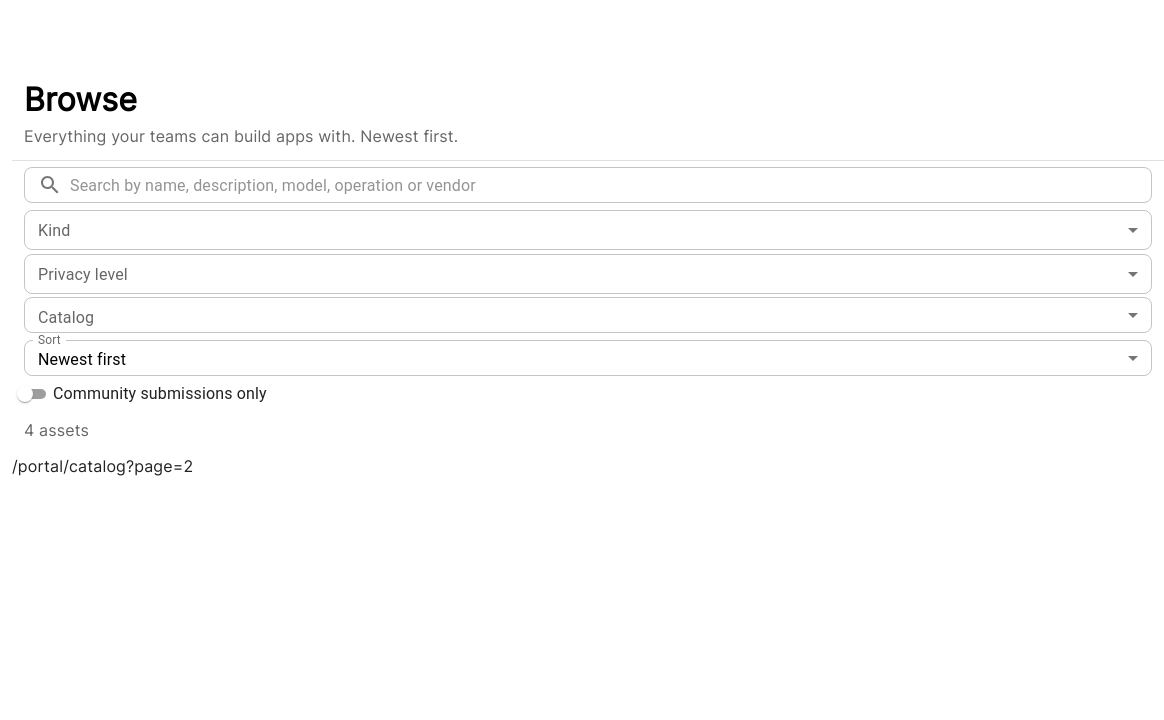
Test: CatalogBrowse › debounces typing into one request and resets the page
Type "doc" into the field with placeholder "Search by name, description, model, operation or vendor" at (611, 185), box [70,167,1152,203]
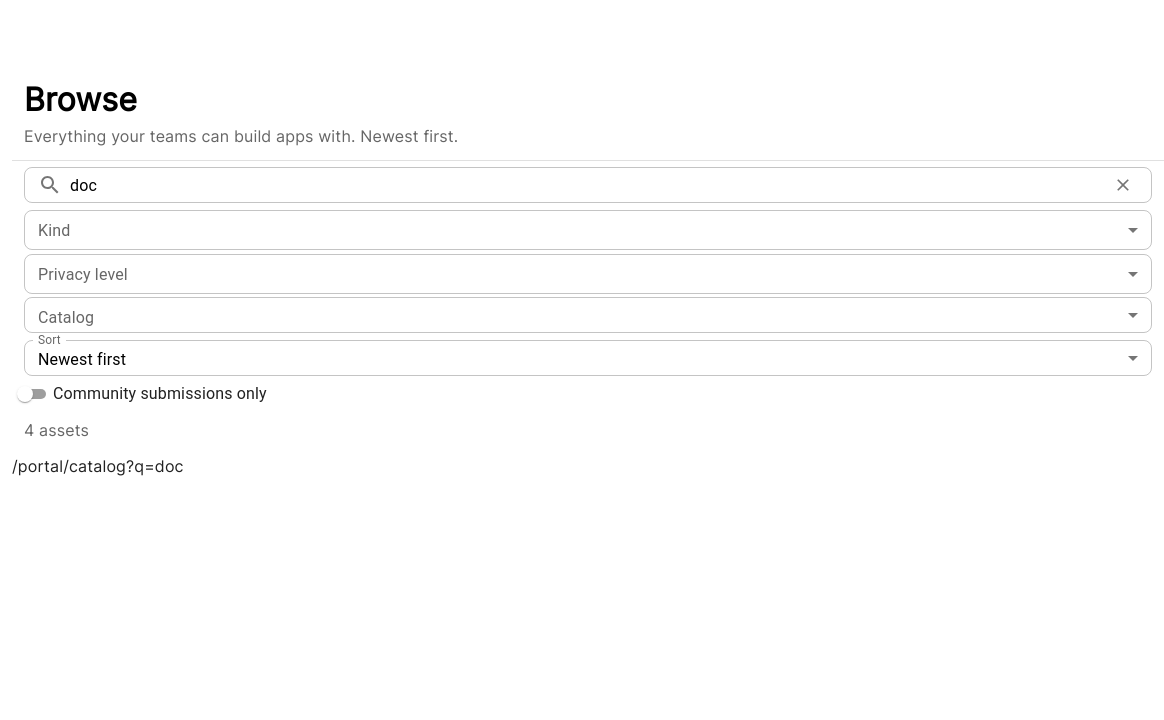
Replace the text in the field with placeholder "Search by name, description, model, operation or vendor" with "docs" at (585, 185), box [70,167,1100,203]
Wait 400 ms
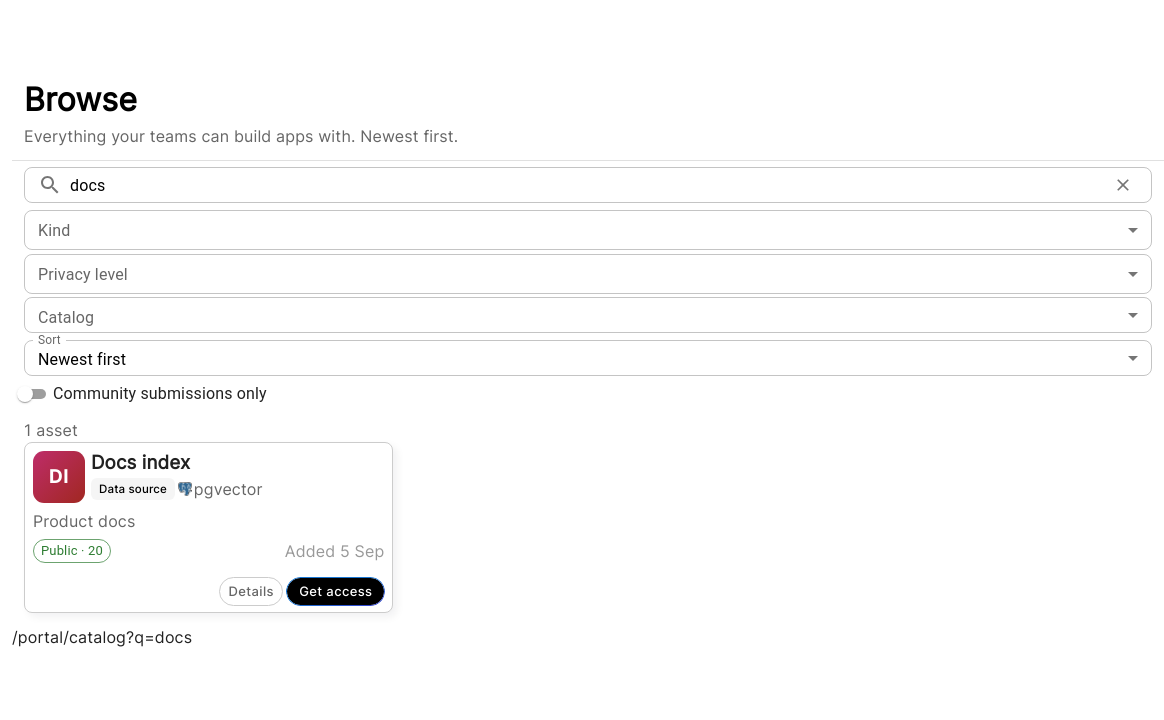
Now the text with test id "location" reads "/portal/catalog?q=docs", box [12,627,192,647]
